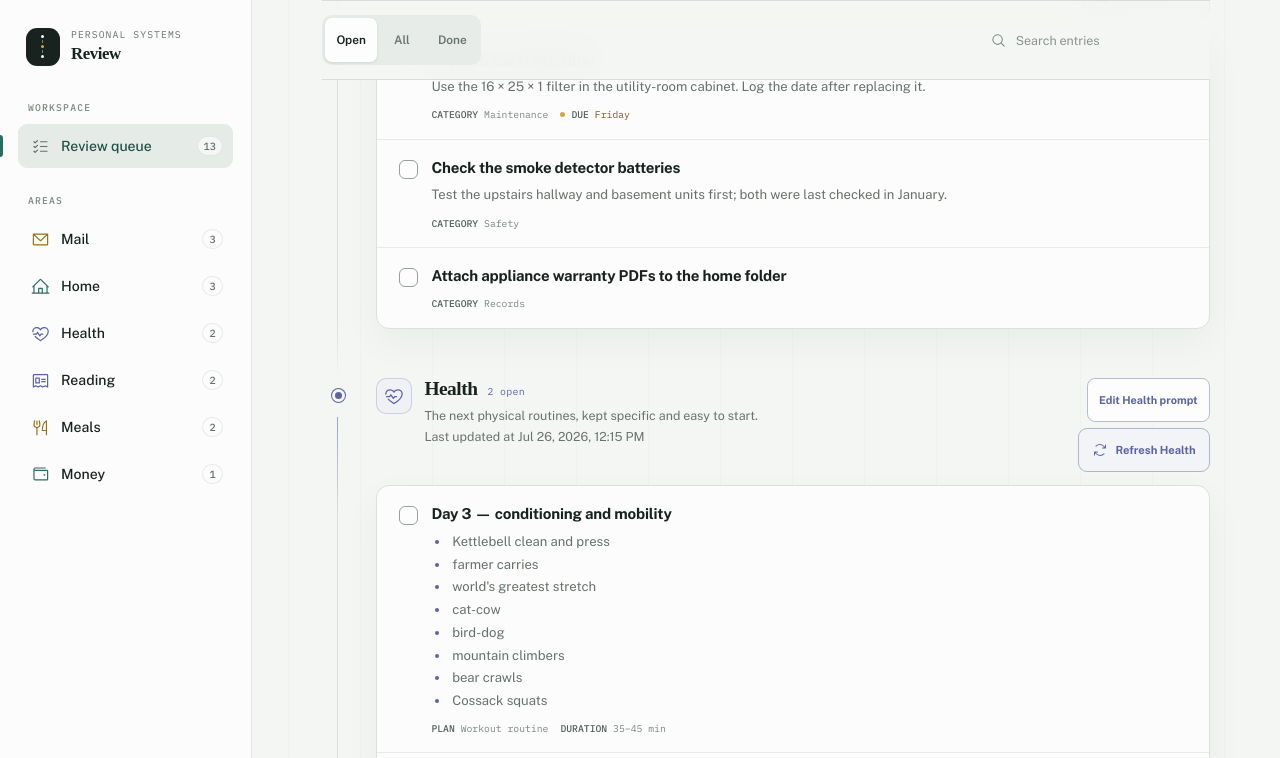
Test: ReviewApp › bounds delayed reconciliation after an individual skipped result
(page scrolled)
What coordinates should you click on to do the following:
click the button "Refresh Health"
I would click on:
 (1144, 450)
Its box is top-left (1078, 428), bottom-right (1210, 472).
Wait 40000 ms
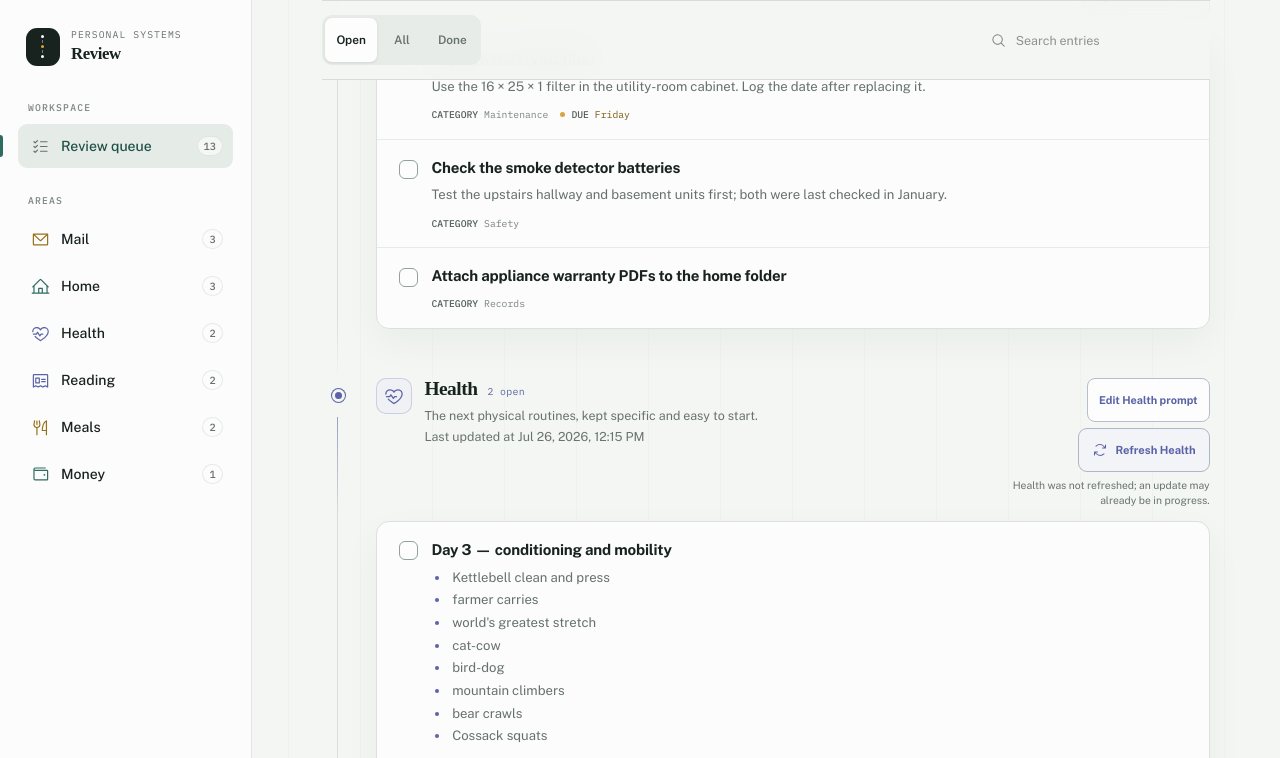
Check: the text "Health was not refreshed; an update may already be in progress." is shown, box top-left (990, 478), bottom-right (1210, 508)
